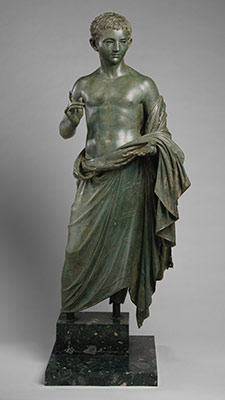person-like: (55, 7, 193, 332)
